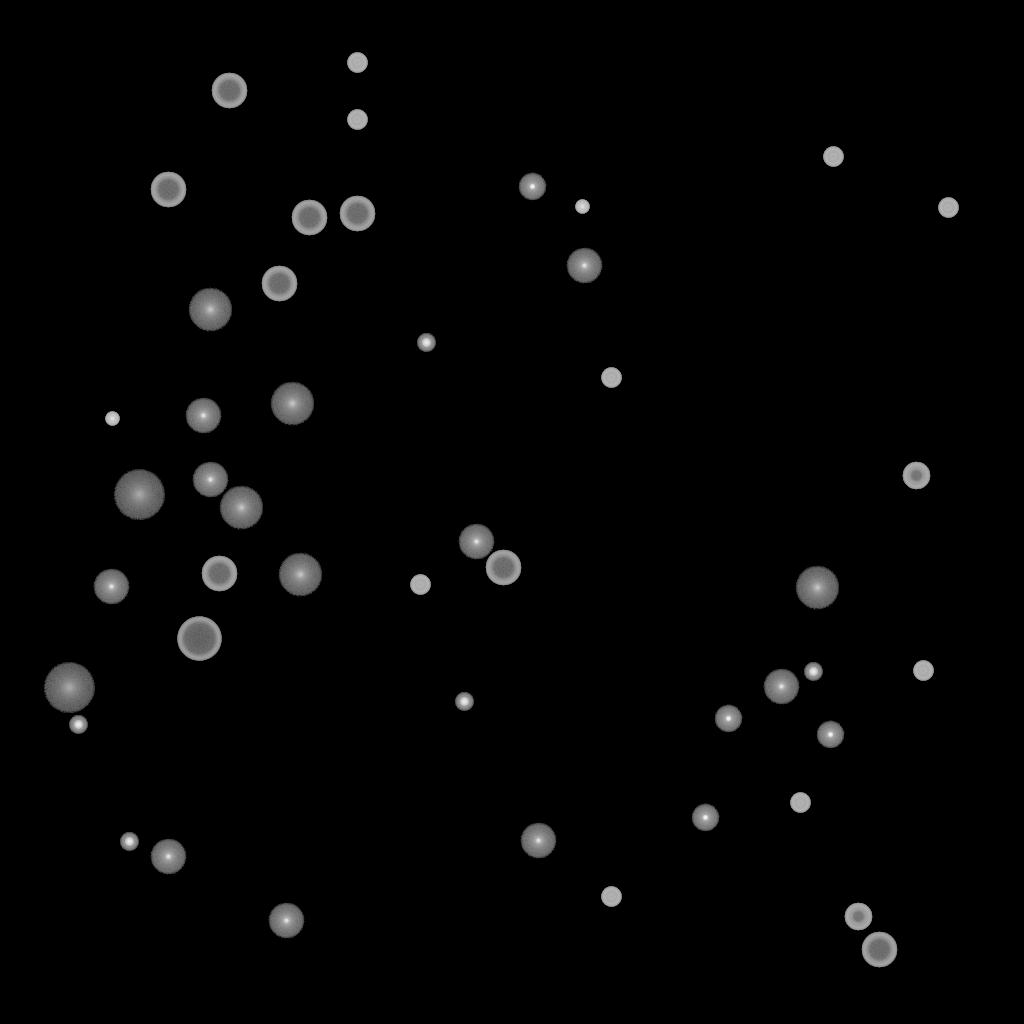depth:-10: (816, 721, 844, 749), (691, 804, 719, 832), (518, 173, 546, 201), (714, 705, 742, 733)
depth:-20: (455, 693, 473, 711), (804, 663, 822, 681), (417, 334, 435, 352), (69, 716, 87, 734), (120, 833, 138, 851)
depth:-30: (105, 412, 119, 426), (575, 200, 589, 214)
depth:-40: (601, 368, 621, 388), (790, 793, 810, 813), (347, 110, 367, 130), (347, 53, 367, 73), (601, 887, 621, 907), (410, 575, 430, 595), (938, 198, 958, 218), (823, 147, 843, 167), (913, 661, 933, 681)
depth:-50: (902, 462, 930, 490), (844, 903, 872, 931)
depth:-60: (261, 266, 297, 302), (339, 196, 375, 232), (485, 550, 521, 586), (150, 172, 186, 208), (211, 73, 247, 109), (861, 932, 897, 968), (291, 200, 327, 236), (201, 556, 237, 592)
depth:-70: (177, 617, 221, 661)
depth:0: (458, 524, 494, 560), (763, 669, 799, 705), (185, 398, 221, 434), (192, 462, 228, 498), (520, 823, 556, 859), (150, 839, 186, 875), (566, 248, 602, 284), (93, 569, 129, 605), (268, 903, 304, 939)
depth:10: (270, 382, 314, 426), (795, 566, 839, 610), (188, 288, 232, 332), (219, 486, 263, 530), (278, 553, 322, 597)
depth:20: (43, 663, 95, 713), (113, 470, 165, 520)
